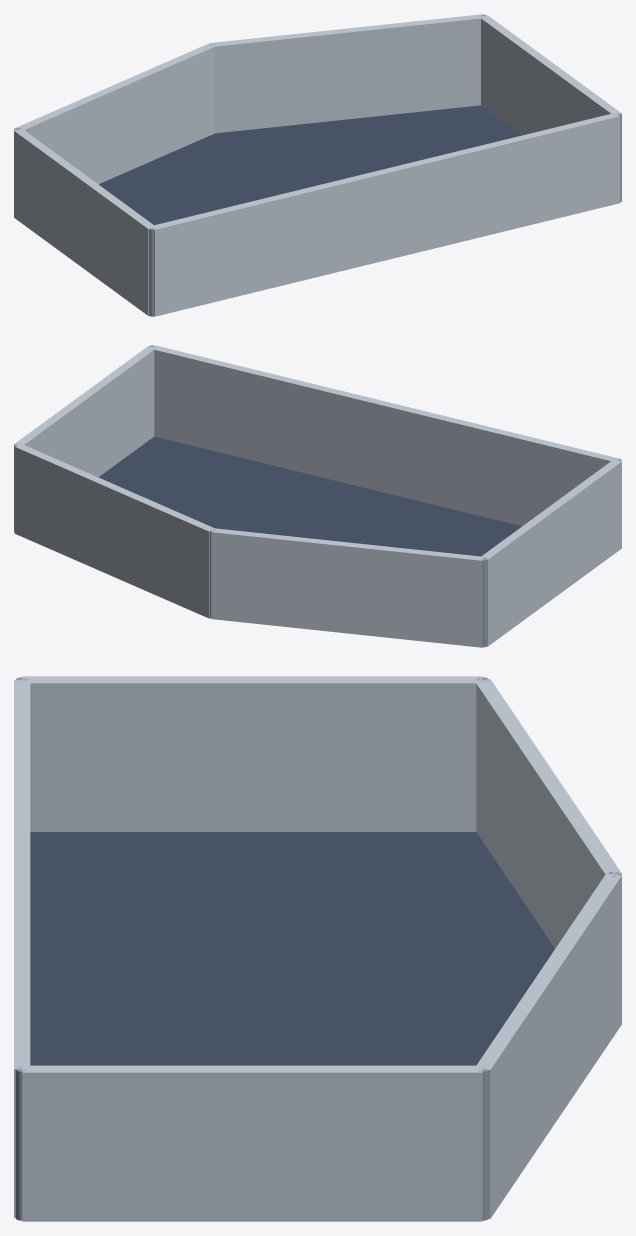
The model's file is a2a18a03-5a7c-4adf-8f9c-adc60d70301c.glb.
3 renders of one model, top to bottom at view 1: azimuth 30°, elevation 25°; view 2: azimuth 150°, elevation 25°; view 3: azimuth 270°, elevation 25°, orthographic. The views are drawn at different scales.
Parts seen in each view (by area): view 1: room-content; view 2: room-content; view 3: room-content.
Part boxes in pixels (bbox=[...]): room-content: bbox=[14, 14, 621, 316]; room-content: bbox=[14, 345, 621, 647]; room-content: bbox=[14, 676, 621, 1221].
Bounding box in the file's own units: 28.5 × 5 × 18.49.
